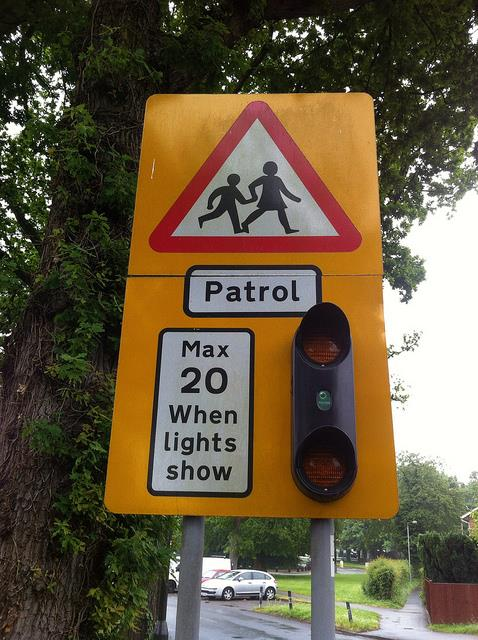road_sign_school: (147, 96, 362, 257)
